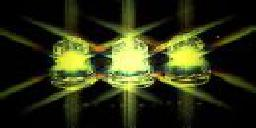LED: (161, 35, 213, 93), (47, 35, 96, 88), (108, 32, 151, 92)
